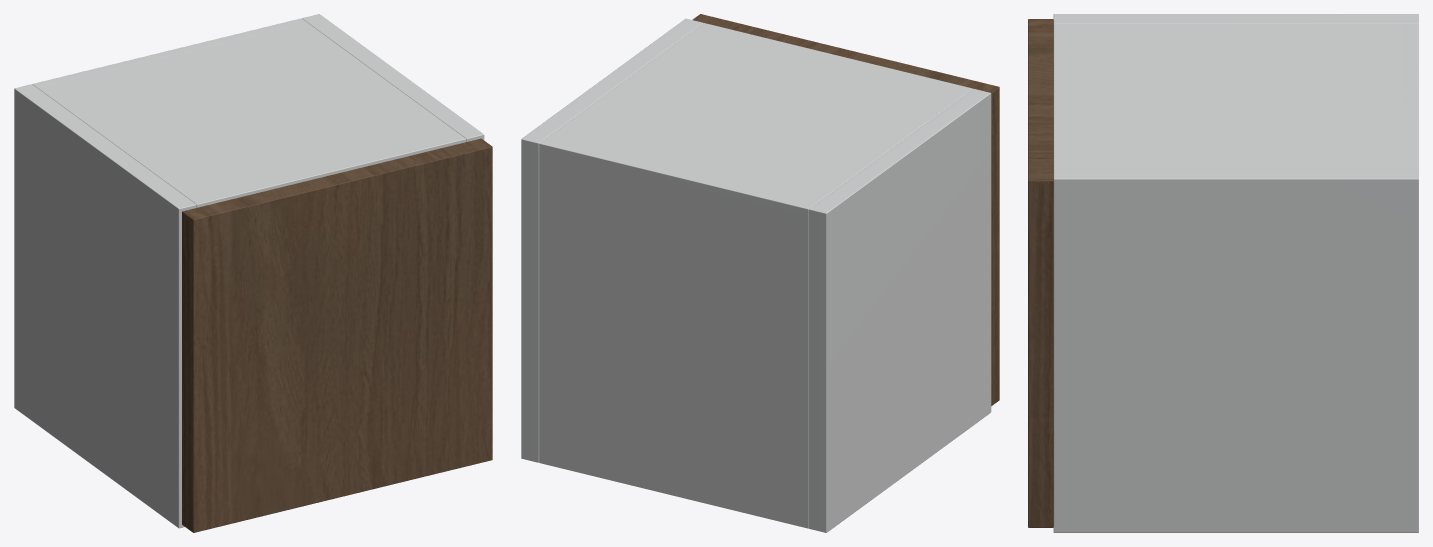
Rendered from oppein-pb-mso-w1212.glb.
3 views of the same model, side by side, from view 1: azimuth 30°, elevation 25°; view 2: azimuth 150°, elevation 25°; view 3: azimuth 270°, elevation 25° (orthographic). The views are drawn at different scales.
Visible parts, largest first — view 1: Door, Cabinet side, Cabinet top, Cabinet side.001, Cabinet back; view 2: Cabinet back, Cabinet side, Cabinet top, Cabinet side.001, Door; view 3: Cabinet side.001, Cabinet top, Door, Cabinet side, Cabinet back.
Boxes of the visible parts, x1,y1,x2,y2 form: Door: (182,138,492,532); Cabinet side: (14,84,196,528); Cabinet top: (38,19,466,207); Cabinet side.001: (302,14,484,141); Cabinet back: (32,18,307,88); Cabinet back: (539,138,814,528); Cabinet side: (808,88,991,532); Cabinet top: (540,23,972,226); Cabinet side.001: (521,18,703,462); Door: (692,14,999,405); Cabinet side.001: (1053,169,1418,532); Cabinet top: (1053,23,1418,169); Door: (1028,19,1053,527); Cabinet side: (1053,14,1418,23); Cabinet back: (1404,23,1418,169).
Size of the model in its own units: 0.3048 by 0.3048 by 0.3048.
Materials: 2 (1 with a texture image).
